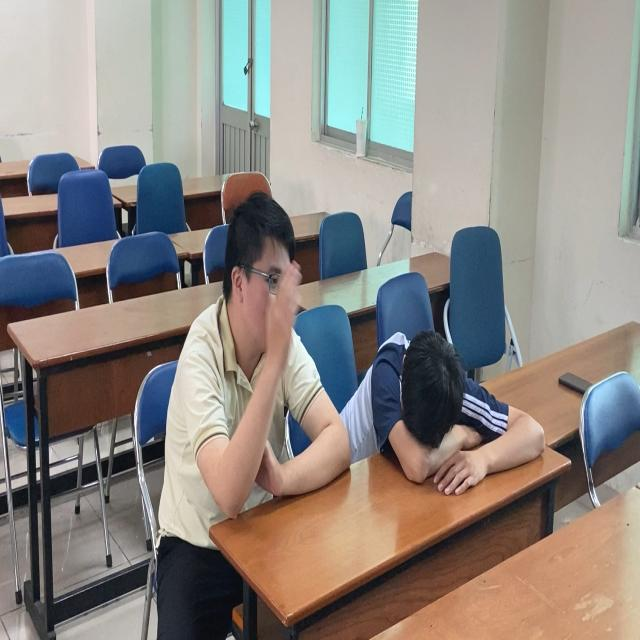raise_hand: (167, 193, 319, 556)
sleep: (346, 319, 550, 509)
